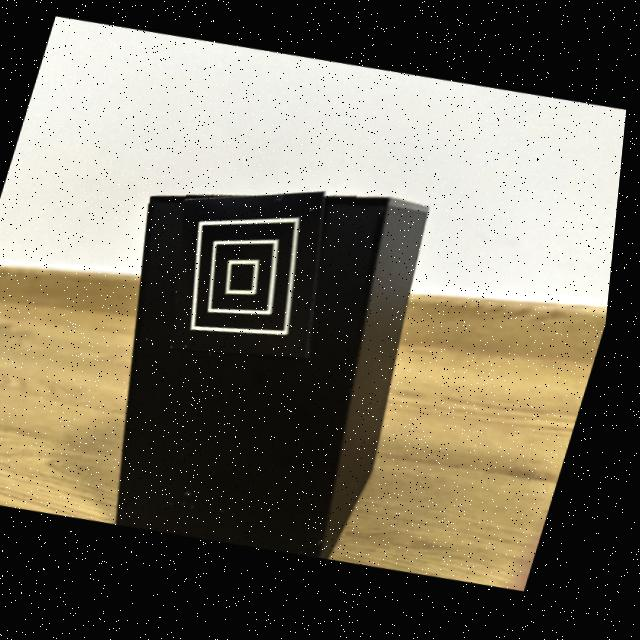BULLSEYE: (179, 195, 331, 365)
